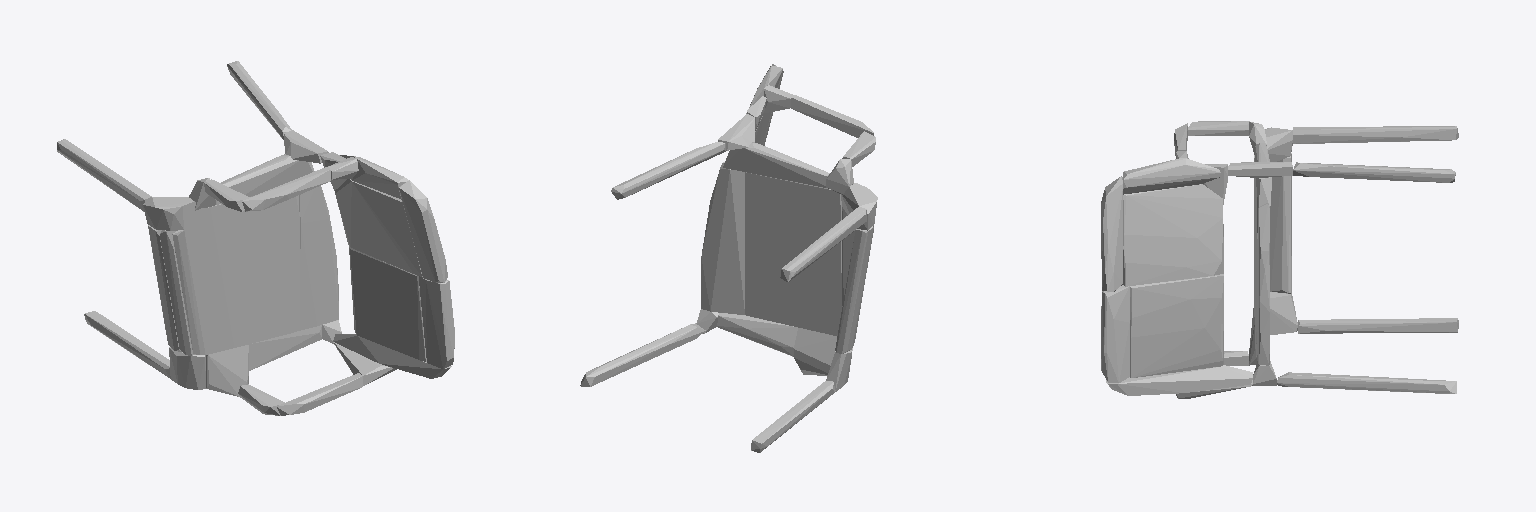
3 renders of one model, left to right at view 1: azimuth 30°, elevation 25°; view 2: azimuth 150°, elevation 25°; view 3: azimuth 270°, elevation 25°, orthographic.
Visible parts, largest first — view 1: convex_13, convex_15, convex_28, convex_8, convex_24, convex_16, convex_17, convex_21, convex_9, convex_7, convex_19, convex_0 (+13 smaller); view 2: convex_13, convex_8, convex_21, convex_18, convex_4, convex_10, convex_1, convex_0, convex_9, convex_2, convex_23, convex_19 (+5 smaller); view 3: convex_28, convex_15, convex_7, convex_16, convex_0, convex_18, convex_4, convex_17, convex_2, convex_29, convex_1, convex_8 (+5 smaller).
Boxes of the visible parts, x1=… form: convex_13: x1=206, y1=195, x2=299, y2=354; convex_15: x1=349, y1=247, x2=426, y2=361; convex_28: x1=335, y1=179, x2=422, y2=277; convex_8: x1=299, y1=186, x2=338, y2=330; convex_24: x1=172, y1=225, x2=205, y2=354; convex_16: x1=419, y1=276, x2=454, y2=368; convex_17: x1=398, y1=180, x2=447, y2=282; convex_21: x1=216, y1=154, x2=314, y2=204; convex_9: x1=206, y1=345, x2=248, y2=396; convex_7: x1=333, y1=334, x2=451, y2=378; convex_19: x1=143, y1=197, x2=205, y2=230; convex_0: x1=57, y1=139, x2=151, y2=211; convex_13: x1=745, y1=172, x2=841, y2=335; convex_8: x1=701, y1=162, x2=744, y2=314; convex_21: x1=723, y1=142, x2=829, y2=188; convex_18: x1=835, y1=226, x2=873, y2=353; convex_4: x1=580, y1=323, x2=705, y2=386; convex_10: x1=717, y1=313, x2=797, y2=356; convex_1: x1=611, y1=142, x2=725, y2=199; convex_0: x1=780, y1=206, x2=866, y2=281; convex_9: x1=794, y1=328, x2=836, y2=375; convex_2: x1=751, y1=381, x2=834, y2=452; convex_23: x1=791, y1=95, x2=873, y2=137; convex_19: x1=841, y1=183, x2=877, y2=230; convex_28: x1=1123, y1=184, x2=1223, y2=286; convex_15: x1=1130, y1=274, x2=1223, y2=377; convex_7: x1=1106, y1=365, x2=1252, y2=395; convex_16: x1=1101, y1=285, x2=1129, y2=382; convex_0: x1=1293, y1=126, x2=1458, y2=143; convex_18: x1=1270, y1=153, x2=1291, y2=293; convex_4: x1=1277, y1=372, x2=1456, y2=393; convex_17: x1=1101, y1=176, x2=1122, y2=291; convex_2: x1=1298, y1=318, x2=1458, y2=333; convex_29: x1=1123, y1=158, x2=1220, y2=194; convex_1: x1=1293, y1=162, x2=1455, y2=182; convex_8: x1=1257, y1=203, x2=1269, y2=365.
Size of the model in its own units: 0.6151 by 0.6433 by 0.856.